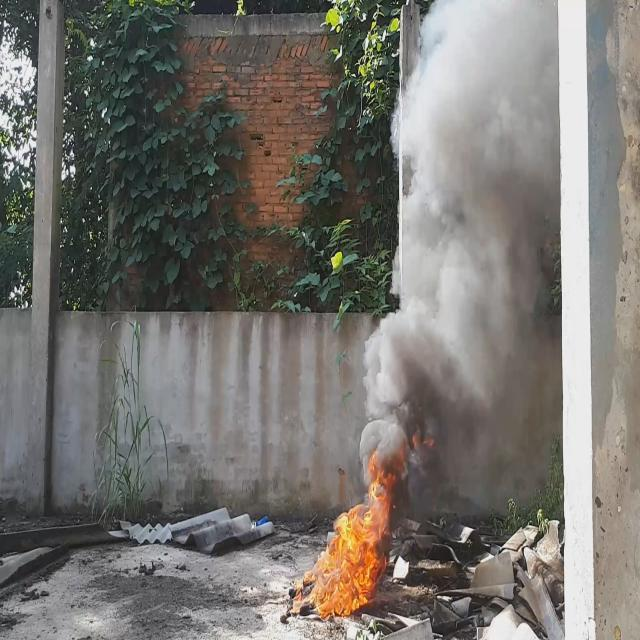Fire: (309, 472, 397, 616)
Smoke: (362, 0, 557, 507)
